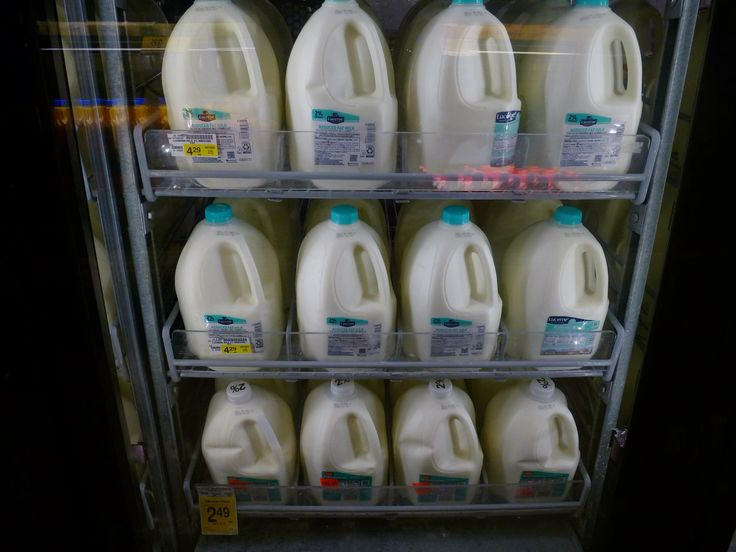milk: (517, 0, 641, 173), (162, 0, 281, 173), (285, 0, 397, 173), (175, 204, 284, 360), (401, 205, 501, 360)
